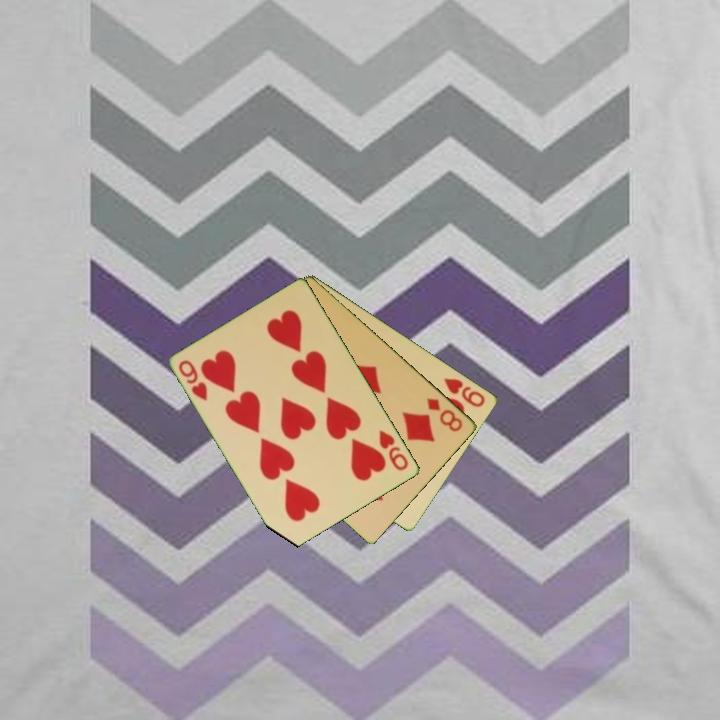8d: (423, 394, 466, 435)
9h: (440, 374, 488, 410), (376, 426, 412, 474), (175, 356, 211, 404)
